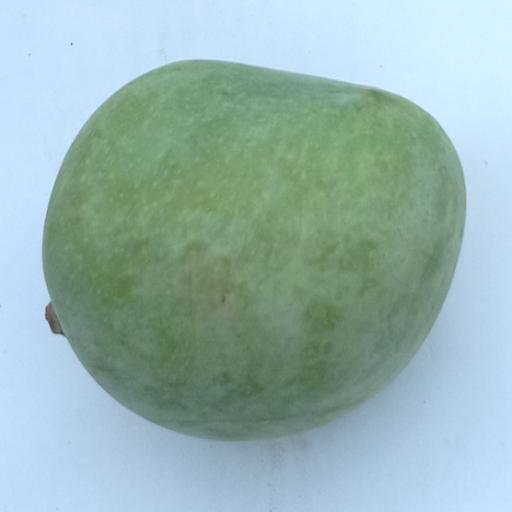mango-unripe: (15, 13, 487, 464)
